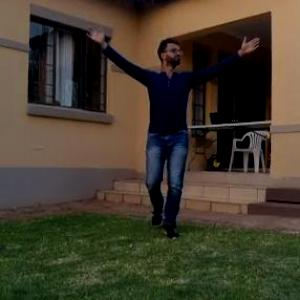takeoff: (69, 16, 262, 228)
